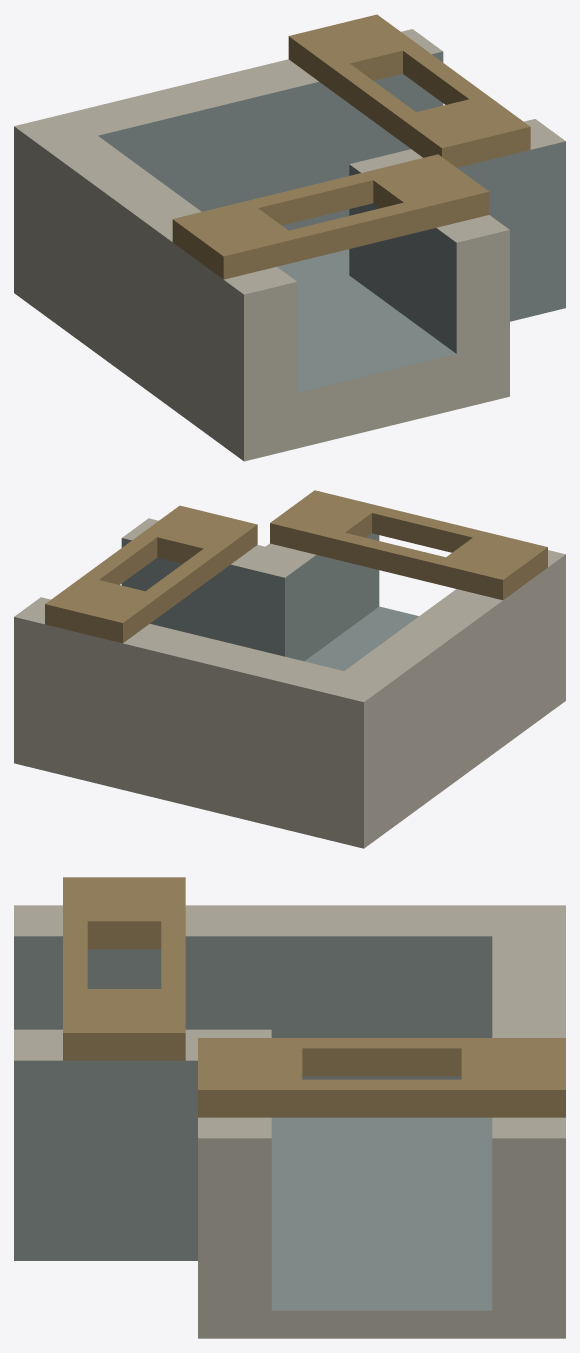
The picture shows the model from 3 angles, top to bottom: view 1: azimuth 30°, elevation 25°; view 2: azimuth 150°, elevation 25°; view 3: azimuth 270°, elevation 25°; orthographic projection. The views are drawn at different scales.
Visible parts, largest first — view 1: ContinuousRightAngleDropDrainBody, WholeIncomingArmSlottedCover, WholeOutgoingArmSlottedCover; view 2: ContinuousRightAngleDropDrainBody, WholeIncomingArmSlottedCover, WholeOutgoingArmSlottedCover; view 3: ContinuousRightAngleDropDrainBody, WholeOutgoingArmSlottedCover, WholeIncomingArmSlottedCover.
Part boxes in pixels (x1,y1,x2,y2): ContinuousRightAngleDropDrainBody: [14, 29, 565, 461]; WholeIncomingArmSlottedCover: [172, 154, 489, 279]; WholeOutgoingArmSlottedCover: [288, 14, 530, 167]; ContinuousRightAngleDropDrainBody: [14, 518, 565, 848]; WholeIncomingArmSlottedCover: [270, 490, 547, 600]; WholeOutgoingArmSlottedCover: [45, 505, 257, 643]; ContinuousRightAngleDropDrainBody: [14, 905, 565, 1338]; WholeOutgoingArmSlottedCover: [198, 1038, 565, 1117]; WholeIncomingArmSlottedCover: [63, 877, 185, 1060].
Bounding box in the file's own units: 0.9 × 0.41 × 0.9.
